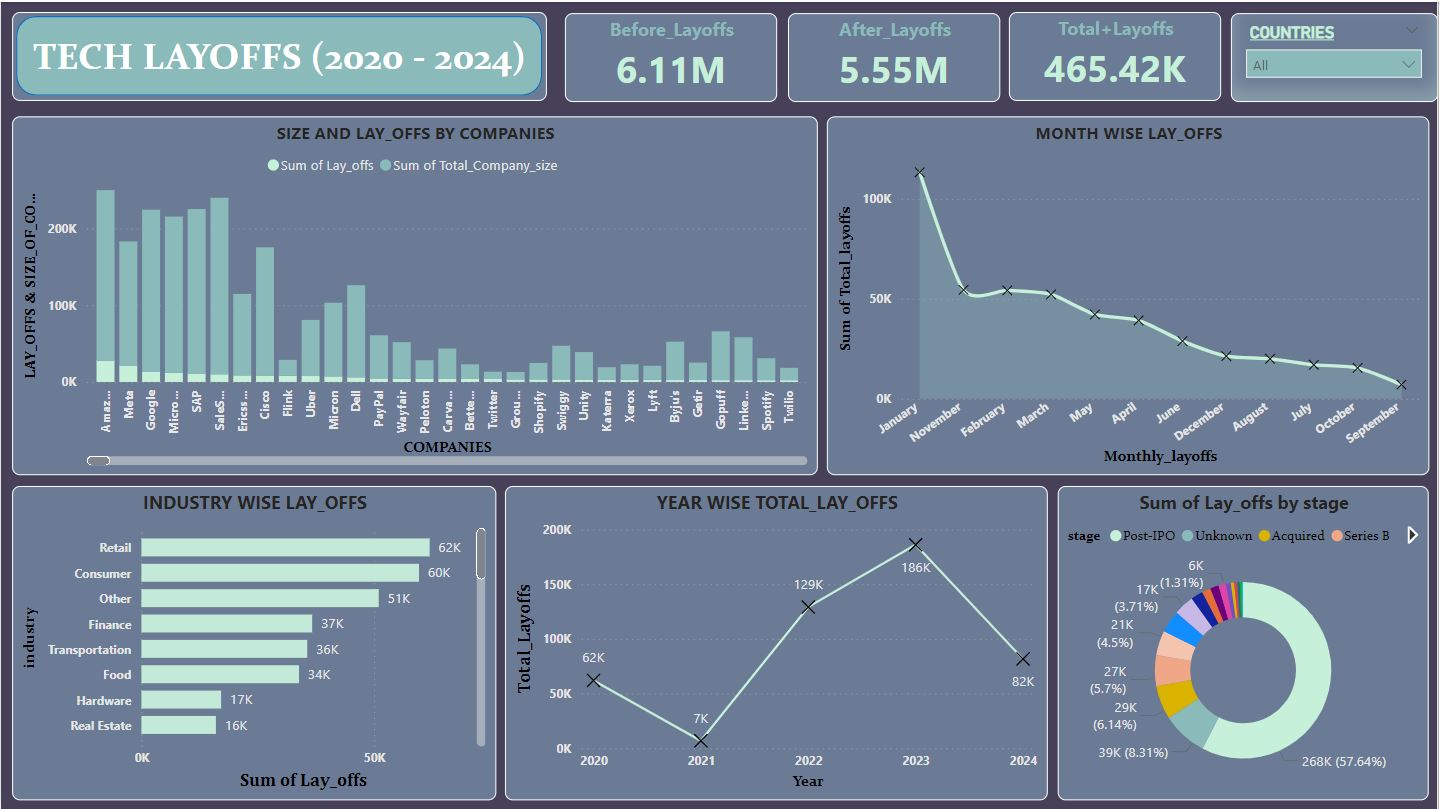

The dashboard page shown, as its layout file describes it:
{"tool":"powerbi","page":{"name":"Page 1","canvas":[1280,720],"ordinal":0},"visuals":[{"type":"lineChart","title":"YEAR WISE TOTAL_LAY_OFFS","fields":{"Y":["Sum(Year wise layoffs.Total_layoffs)"],"Category":["Year wise layoffs.Lay_off_Year"]},"box":[449.1,431.3,483.7,279.9],"z":0},{"type":"donutChart","fields":{"Category":["stage wise layoff.stage"],"Y":["Sum(stage wise layoff.Lay_offs)"]},"box":[941.7,431.3,330.4,279.9],"z":1000},{"type":"columnChart","title":"SIZE AND LAY_OFFS BY COMPANIES","fields":{"Category":["company&layoff.company"],"Y":["Sum(company&layoff.Lay_offs)","Sum(company&layoff.Total_Company_size)"]},"box":[10,102.2,717.7,320],"z":2000},{"type":"areaChart","title":"MONTH WISE LAY_OFFS","fields":{"Category":["Months wise Layoffs.Monthly_layoffs"],"Y":["Sum(Months wise Layoffs.Total_layoffs)"]},"box":[735.5,102.2,536.6,320],"z":3000},{"type":"shape","box":[10,8.9,476.6,78.9],"z":4000},{"type":"card","title":"Before_Layoffs","fields":{"Values":["Sum(layoff before and after.Company_size_before_layoff)"]},"box":[502.2,10,188.9,78.9],"z":5000},{"type":"card","title":"After_Layoffs","fields":{"Values":["Sum(layoff before and after.After Lay_offs)"]},"box":[701.1,10,188.9,78.9],"z":6000},{"type":"card","title":"Total+Layoffs","fields":{"Values":["Sum(Total_layoff.Total_layoffs)"]},"box":[897.7,8.9,188.9,78.9],"z":7000},{"type":"barChart","title":"INDUSTRY WISE LAY_OFFS","fields":{"Category":["Layoff by Industry.industry"],"Y":["Sum(Layoff by Industry.Lay_offs)"]},"box":[10,431.1,431.1,280],"z":7001},{"type":"slicer","title":"COUNTRIES","fields":{"Values":["country wise layoff.country"]},"box":[1095.5,10,184.4,78.9],"z":7002}]}

Visuals, with their boxes in screenshot pixels (x1, y1, x2, y2), scaled from the page's 1280x720 canvas onto the 1440x809 screenshot:
"YEAR WISE TOTAL_LAY_OFFS" lineChart: [left=505, top=485, right=1049, bottom=799]
donutChart - stage wise layoff.stage x Sum(stage wise layoff.Lay_offs): [left=1059, top=485, right=1431, bottom=799]
"SIZE AND LAY_OFFS BY COMPANIES" columnChart: [left=11, top=115, right=819, bottom=474]
"MONTH WISE LAY_OFFS" areaChart: [left=827, top=115, right=1431, bottom=474]
shape: [left=11, top=10, right=547, bottom=99]
"Before_Layoffs" card: [left=565, top=11, right=777, bottom=100]
"After_Layoffs" card: [left=789, top=11, right=1001, bottom=100]
"Total+Layoffs" card: [left=1010, top=10, right=1222, bottom=99]
"INDUSTRY WISE LAY_OFFS" barChart: [left=11, top=484, right=496, bottom=799]
"COUNTRIES" slicer: [left=1232, top=11, right=1439, bottom=100]
